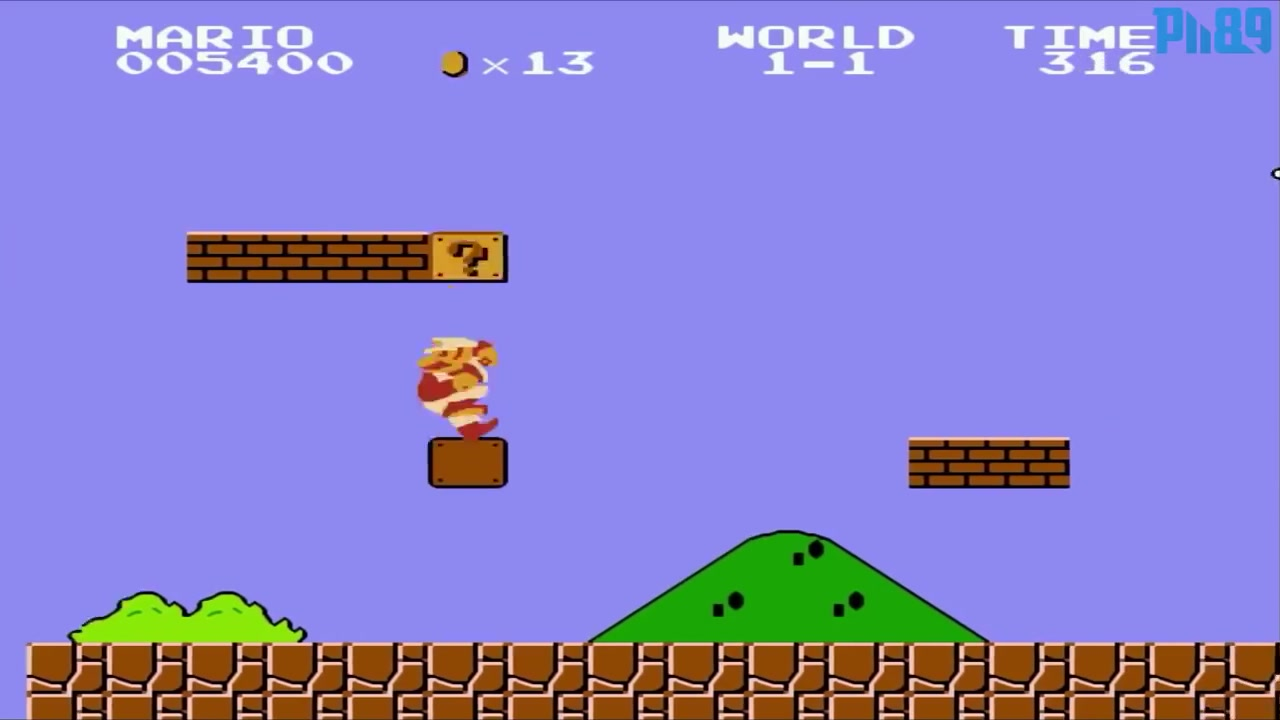mario: (405, 331, 504, 441)
